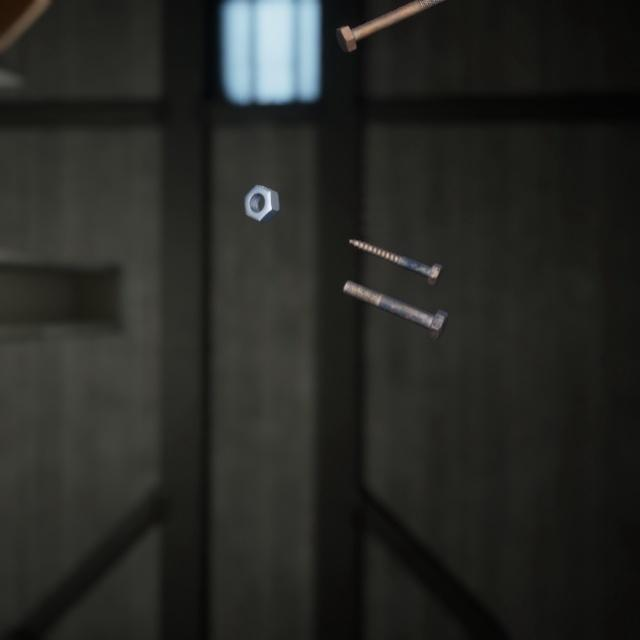bolt: (338, 259, 452, 327), (345, 219, 447, 274), (331, 0, 439, 50)
nut: (239, 164, 283, 211)
